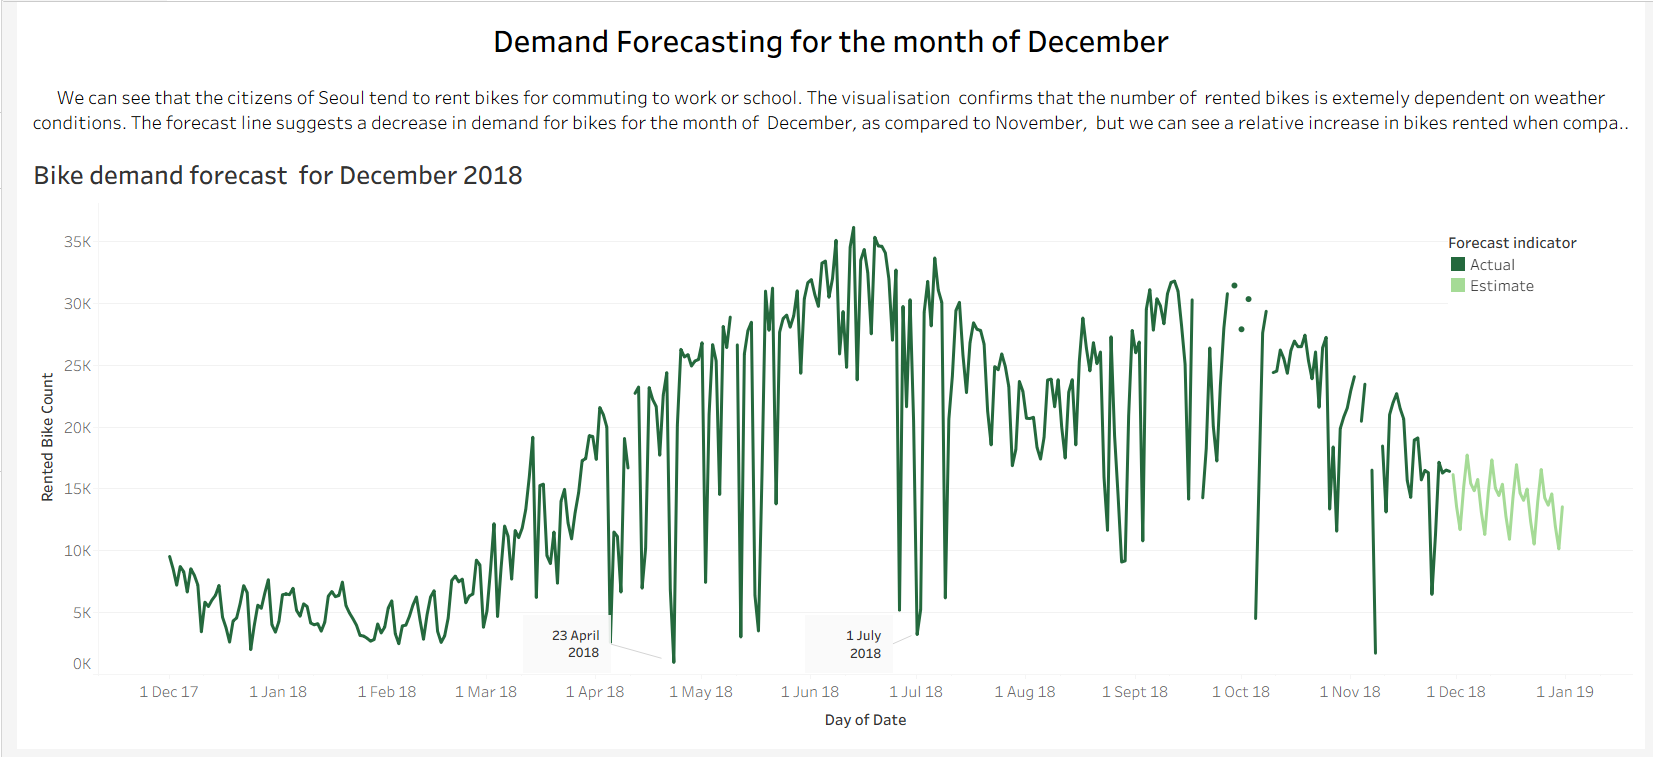

The page's visual inventory and layout, read from the dashboard file:
{"tool":"tableau","page":{"name":"Demand Forecasting","canvas":[1000,1000],"units":"permille","ordinal":0},"visuals":[{"type":"text","box":[6.7,12.2,986.7,80.6]},{"type":"text","box":[6.7,92.8,986.7,104.4]},{"type":"worksheet","title":"Forcast d4","mark":"Automatic","rows":["Rented Bike Count"],"cols":["Date"],"box":[6.7,197.2,986.7,790.5]},{"type":"legend","title":"Forcast d4","param":"[federated.1qjxm6e1j7kkr110pkmjh0wcti3r].[none:Forecast Indicator:nk]","box":[879.2,307.8,113.3,102.6]}]}

Visuals, with their boxes on the dashboard's canvas, which has no fixed pixel size, in thousandths of its width and height (x1, y1, x2, y2). These are canvas units, not pixel positions in the 1653x757 screenshot, which may show the page scaled, cropped or inside an application window:
text: left=7, top=12, right=993, bottom=93
text: left=7, top=93, right=993, bottom=197
"Forcast d4" worksheet: left=7, top=197, right=993, bottom=988
"Forcast d4" legend: left=879, top=308, right=992, bottom=410
